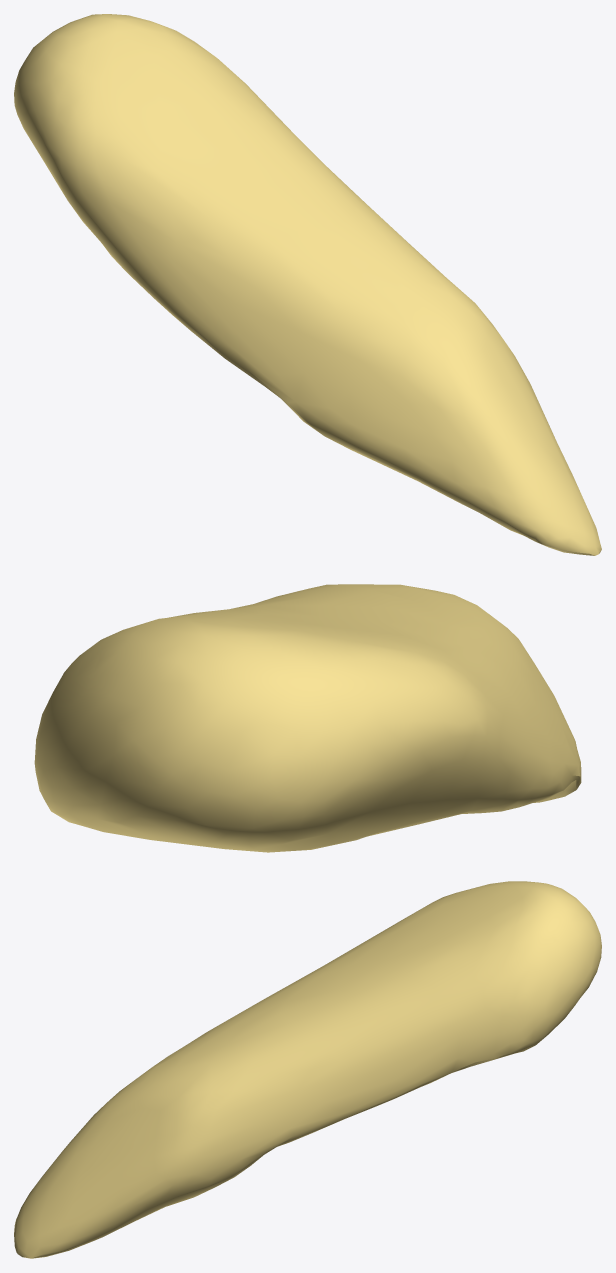
The model's file is fma73033_mm2795m.glb.
3 views of the same model, one above another, from view 1: azimuth 30°, elevation 25°; view 2: azimuth 150°, elevation 25°; view 3: azimuth 270°, elevation 25° (orthographic). The views are drawn at different scales.
Parts seen in each view (by area): view 1: FMA73033_MM2795M; view 2: FMA73033_MM2795M; view 3: FMA73033_MM2795M.
Part boxes in pixels (left/top/right/bottom): FMA73033_MM2795M: left=14, top=14, right=601, bottom=555; FMA73033_MM2795M: left=34, top=584, right=581, bottom=852; FMA73033_MM2795M: left=14, top=881, right=601, bottom=1258.
Size of the model in its own units: 0.00221 by 0.00245 by 0.00449.
